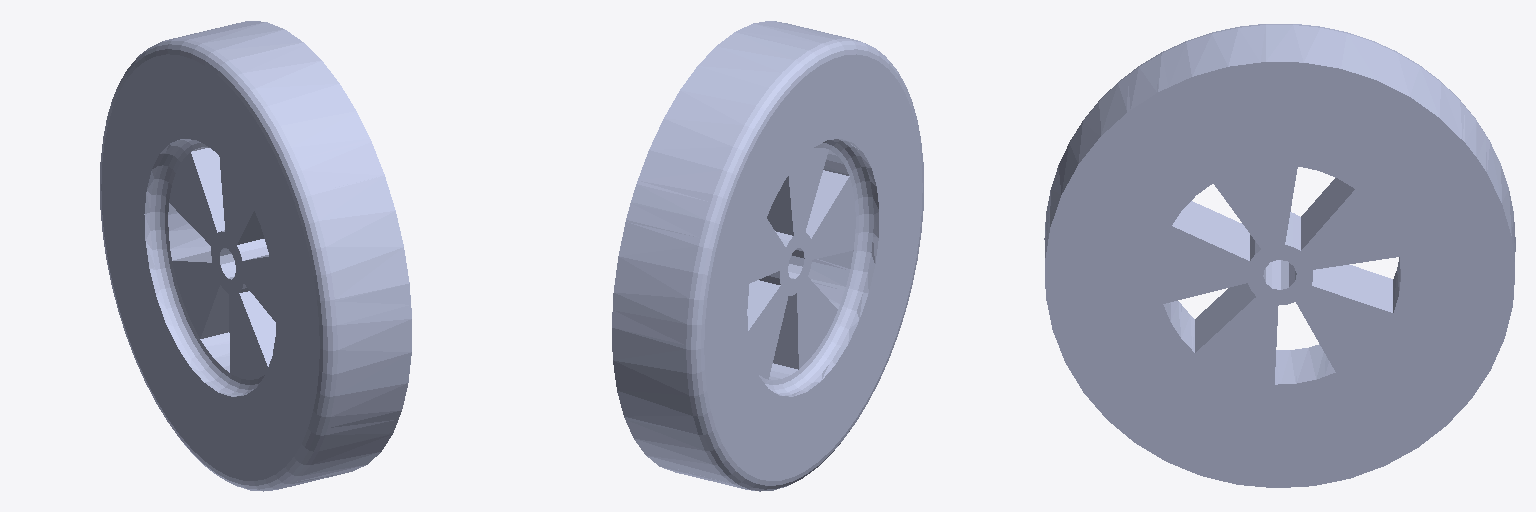
robot.urdf — urdf8:
<?xml version="1.0" encoding="utf-8"?>
<!-- This URDF was automatically created by SolidWorks to URDF Exporter! Originally created by [author] ([email redacted]) 
     Commit Version: 1.6.0-1-g15f4949  Build Version: 1.6.7594.29634
     For more information, please see http://wiki.ros.org/sw_urdf_exporter -->
<robot
  name="urdf8">
  <link
    name="base_link">
    <inertial>
      <origin
        xyz="-4.30659230155805E-06 0.00991258876708149 -0.0221529540717541"
        rpy="0 0 0" />
      <mass
        value="0.734157679226464" />
      <inertia
        ixx="0.00351396795462361"
        ixy="2.71327909754843E-08"
        ixz="1.10768951074236E-07"
        iyy="0.00532306889577312"
        iyz="-4.71400775733584E-06"
        izz="0.00185783513184479" />
    </inertial>
    <visual>
      <origin
        xyz="0 0 0"
        rpy="0 0 0" />
      <geometry>
        <mesh
          filename="package://urdf8/meshes/base_link.STL" />
      </geometry>
      <material
        name="">
        <color
          rgba="0.792156862745098 0.819607843137255 0.933333333333333 1" />
      </material>
    </visual>
    <collision>
      <origin
        xyz="0 0 0"
        rpy="0 0 0" />
      <geometry>
        <mesh
          filename="package://urdf8/meshes/base_link.STL" />
      </geometry>
    </collision>
  </link>
  <link
    name="RF">
    <inertial>
      <origin
        xyz="0 5.20417042793042E-18 0.00717282965435008"
        rpy="0 0 0" />
      <mass
        value="0.0489436503728706" />
      <inertia
        ixx="1.76621848414269E-05"
        ixy="-7.24460713560235E-22"
        ixz="-3.13306800713578E-22"
        iyy="1.76621848414269E-05"
        iyz="1.60846949927884E-22"
        izz="3.36011356425037E-05" />
    </inertial>
    <visual>
      <origin
        xyz="0 0 0"
        rpy="0 0 0" />
      <geometry>
        <mesh
          filename="package://urdf8/meshes/RF.STL" />
      </geometry>
      <material
        name="">
        <color
          rgba="0.792156862745098 0.819607843137255 0.933333333333333 1" />
      </material>
    </visual>
    <collision>
      <origin
        xyz="0 0 0"
        rpy="0 0 0" />
      <geometry>
        <mesh
          filename="package://urdf8/meshes/RF.STL" />
      </geometry>
    </collision>
  </link>
  <joint
    name="RFJ"
    type="continuous">
    <origin
      xyz="0.075 0.05 0.01"
      rpy="-1.5707963267949 0 -1.5707963267949" />
    <parent
      link="base_link" />
    <child
      link="RF" />
    <axis
      xyz="0 0 1" />
  </joint>
  <link
    name="RB">
    <inertial>
      <origin
        xyz="0 5.20417042793042E-18 0.00717282965435007"
        rpy="0 0 0" />
      <mass
        value="0.0489436503728706" />
      <inertia
        ixx="1.7662184841427E-05"
        ixy="-7.24490467748315E-22"
        ixz="8.38443426262884E-23"
        iyy="1.7662184841427E-05"
        iyz="1.70068575584028E-22"
        izz="3.36011356425037E-05" />
    </inertial>
    <visual>
      <origin
        xyz="0 0 0"
        rpy="0 0 0" />
      <geometry>
        <mesh
          filename="package://urdf8/meshes/RB.STL" />
      </geometry>
      <material
        name="">
        <color
          rgba="0.792156862745098 0.819607843137255 0.933333333333333 1" />
      </material>
    </visual>
    <collision>
      <origin
        xyz="0 0 0"
        rpy="0 0 0" />
      <geometry>
        <mesh
          filename="package://urdf8/meshes/RB.STL" />
      </geometry>
    </collision>
  </link>
  <joint
    name="RBJ"
    type="continuous">
    <origin
      xyz="0.0749999999999999 -0.06 0.01"
      rpy="-1.5707963267949 0 -1.5707963267949" />
    <parent
      link="base_link" />
    <child
      link="RB" />
    <axis
      xyz="0 0 1" />
  </joint>
  <link
    name="LF">
    <inertial>
      <origin
        xyz="-6.93889390390723E-18 -6.93889390390723E-18 -0.00717282965435005"
        rpy="0 0 0" />
      <mass
        value="0.0489436503728706" />
      <inertia
        ixx="1.76621848414269E-05"
        ixy="0"
        ixz="4.39518392954427E-22"
        iyy="1.76621848414269E-05"
        iyz="3.14797632781275E-22"
        izz="3.36011356425037E-05" />
    </inertial>
    <visual>
      <origin
        xyz="0 0 0"
        rpy="0 0 0" />
      <geometry>
        <mesh
          filename="package://urdf8/meshes/LF.STL" />
      </geometry>
      <material
        name="">
        <color
          rgba="0.792156862745098 0.819607843137255 0.933333333333333 1" />
      </material>
    </visual>
    <collision>
      <origin
        xyz="0 0 0"
        rpy="0 0 0" />
      <geometry>
        <mesh
          filename="package://urdf8/meshes/LF.STL" />
      </geometry>
    </collision>
  </link>
  <joint
    name="LFJ"
    type="continuous">
    <origin
      xyz="-0.075 0.05 0.01"
      rpy="1.5707963267949 0.917718602617513 1.5707963267949" />
    <parent
      link="base_link" />
    <child
      link="LF" />
    <axis
      xyz="0 0 1" />
  </joint>
  <link
    name="LB">
    <inertial>
      <origin
        xyz="0 -6.93889390390723E-18 -0.00717282965435007"
        rpy="0 0 0" />
      <mass
        value="0.0489436503728706" />
      <inertia
        ixx="1.7662184841427E-05"
        ixy="1.6940658945086E-21"
        ixz="6.93614655932614E-22"
        iyy="1.76621848414269E-05"
        iyz="-2.64546954309672E-23"
        izz="3.36011356425037E-05" />
    </inertial>
    <visual>
      <origin
        xyz="0 0 0"
        rpy="0 0 0" />
      <geometry>
        <mesh
          filename="package://urdf8/meshes/LB.STL" />
      </geometry>
      <material
        name="">
        <color
          rgba="0.792156862745098 0.819607843137255 0.933333333333333 1" />
      </material>
    </visual>
    <collision>
      <origin
        xyz="0 0 0"
        rpy="0 0 0" />
      <geometry>
        <mesh
          filename="package://urdf8/meshes/LB.STL" />
      </geometry>
    </collision>
  </link>
  <joint
    name="LBJ"
    type="continuous">
    <origin
      xyz="-0.075 -0.06 0.01"
      rpy="1.5707963267949 -0.584056750958047 1.5707963267949" />
    <parent
      link="base_link" />
    <child
      link="LB" />
    <axis
      xyz="0 0 1" />
  </joint>
</robot>

--- Facts derived from the render (not from the file) ---
The picture shows the robot from 3 angles, left to right: view 1: azimuth 30°, elevation 25°; view 2: azimuth 150°, elevation 25°; view 3: azimuth 270°, elevation 25°; orthographic projection.
Model urdf8 with 5 links and 4 joints (4 continuous), rooted at base_link, posed every joint at zero.
Visible links, largest first — view 1: LB; view 2: LB; view 3: LB.
Boxes of the visible links, <box> form: LB: <box>100,21,411,491</box>; LB: <box>612,21,923,491</box>; LB: <box>1044,24,1515,487</box>.
Bounding box of the posed robot: 0.015 × 0.07 × 0.0699 m (x, y, z).
1 mesh visuals loaded from 5 distinct referenced files (1 binary STL); not drawn: 4 (reference not matched to a file when rendering).